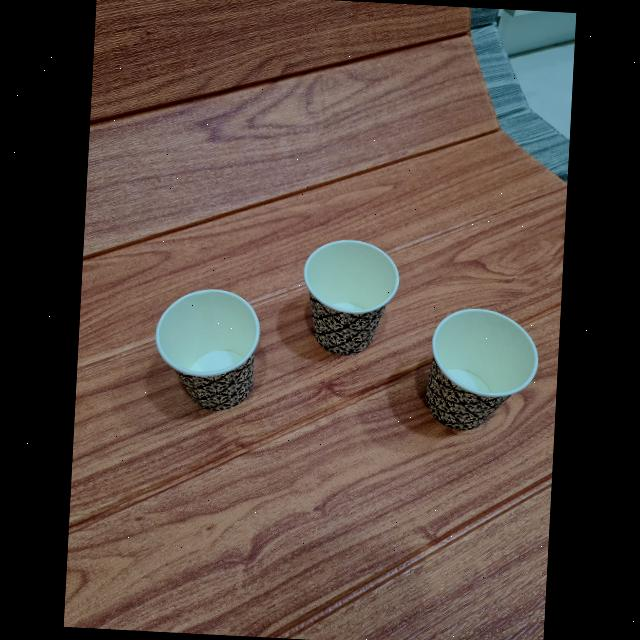trash: (288, 226, 409, 361), (414, 310, 541, 438), (151, 282, 268, 416)
